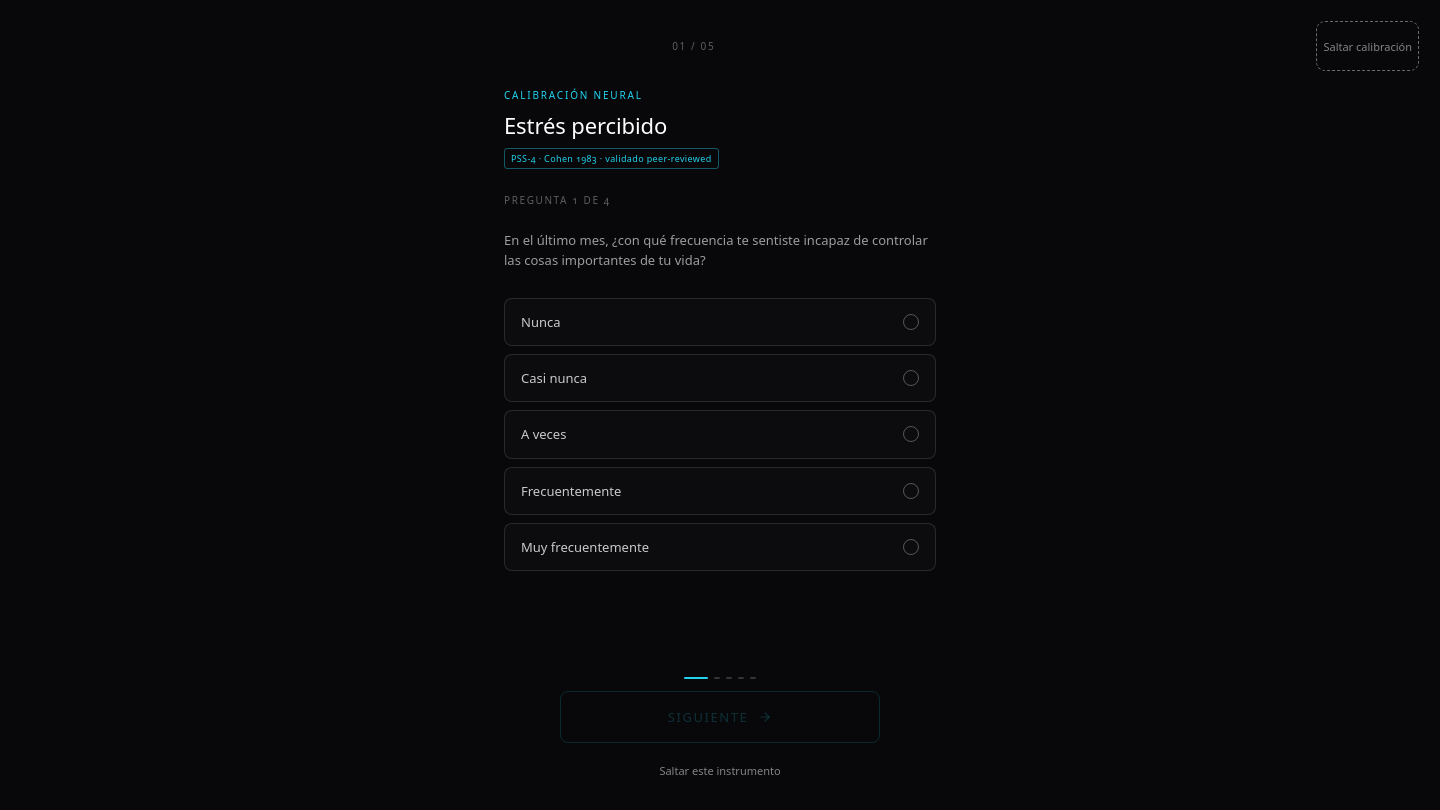
it: NeuralCalibrationV2 — instruments structure › Step 2 rMEQ tiene title 'Cronotipo' y badge 'Adan & Almirall 1991'
Click the radio button with test id "pss4-opt-0-2": [544, 434] box [504,410,936,459]
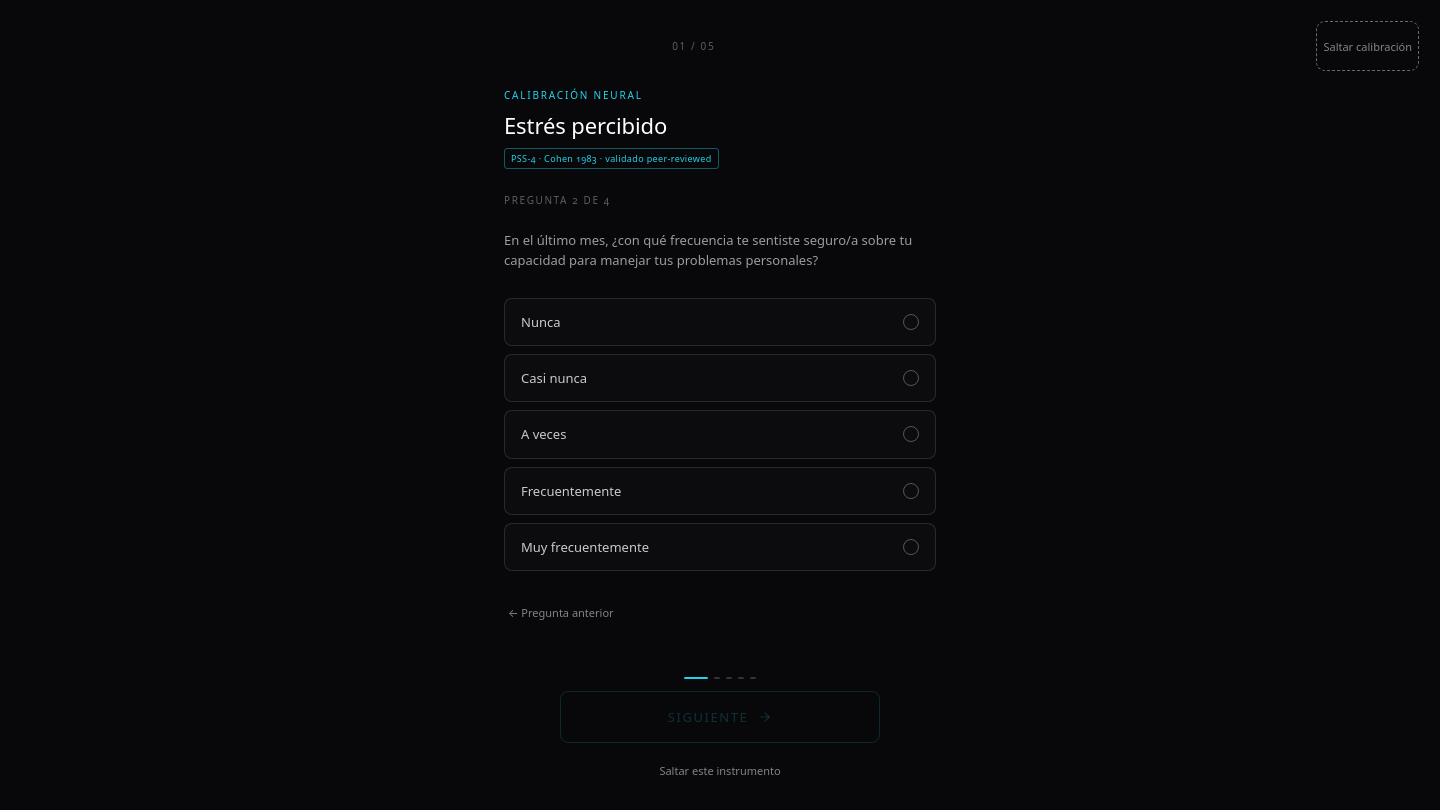
Click the radio button labelled "A veces": [544, 434] box [504,410,936,459]
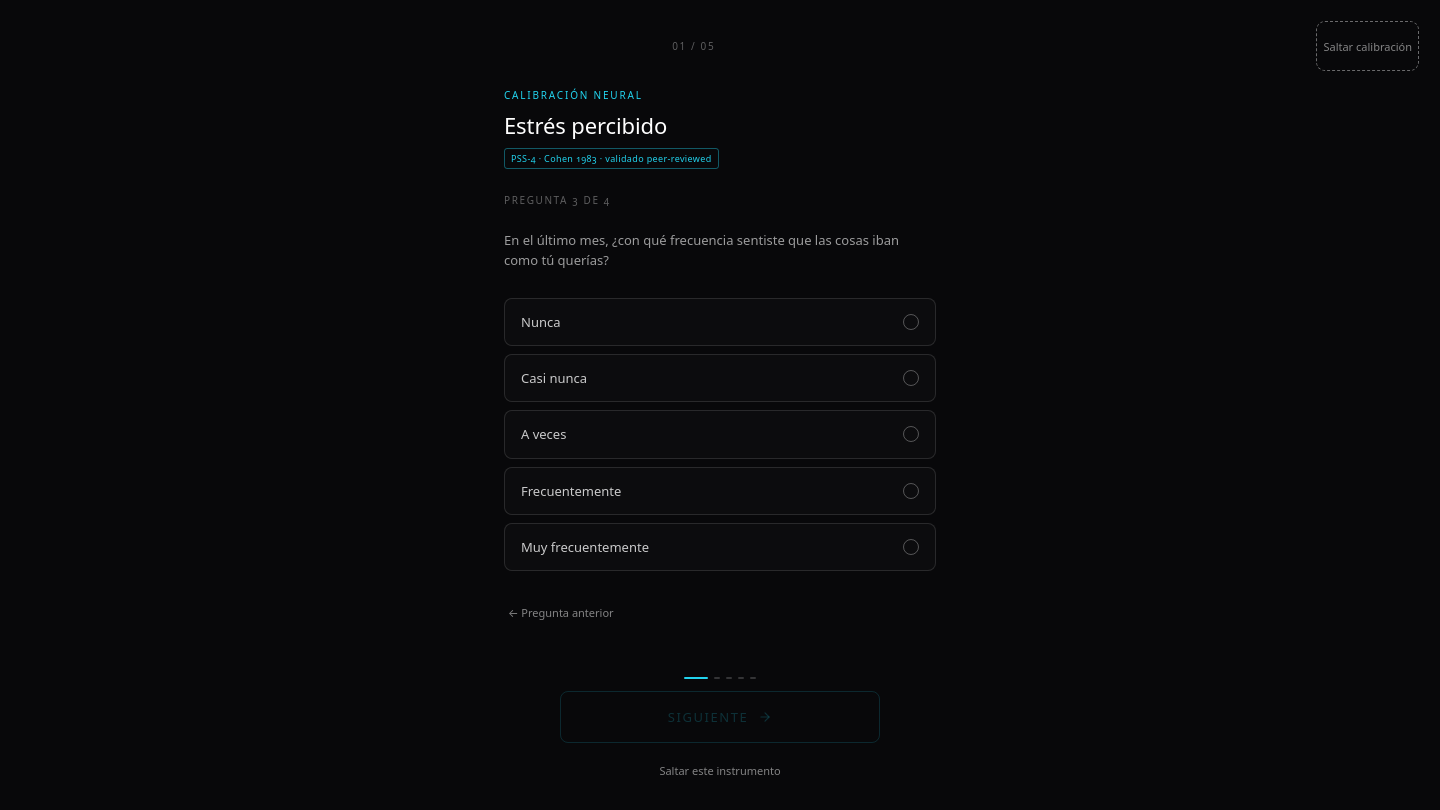
Click the radio button labelled "A veces": [544, 434] box [504,410,936,459]
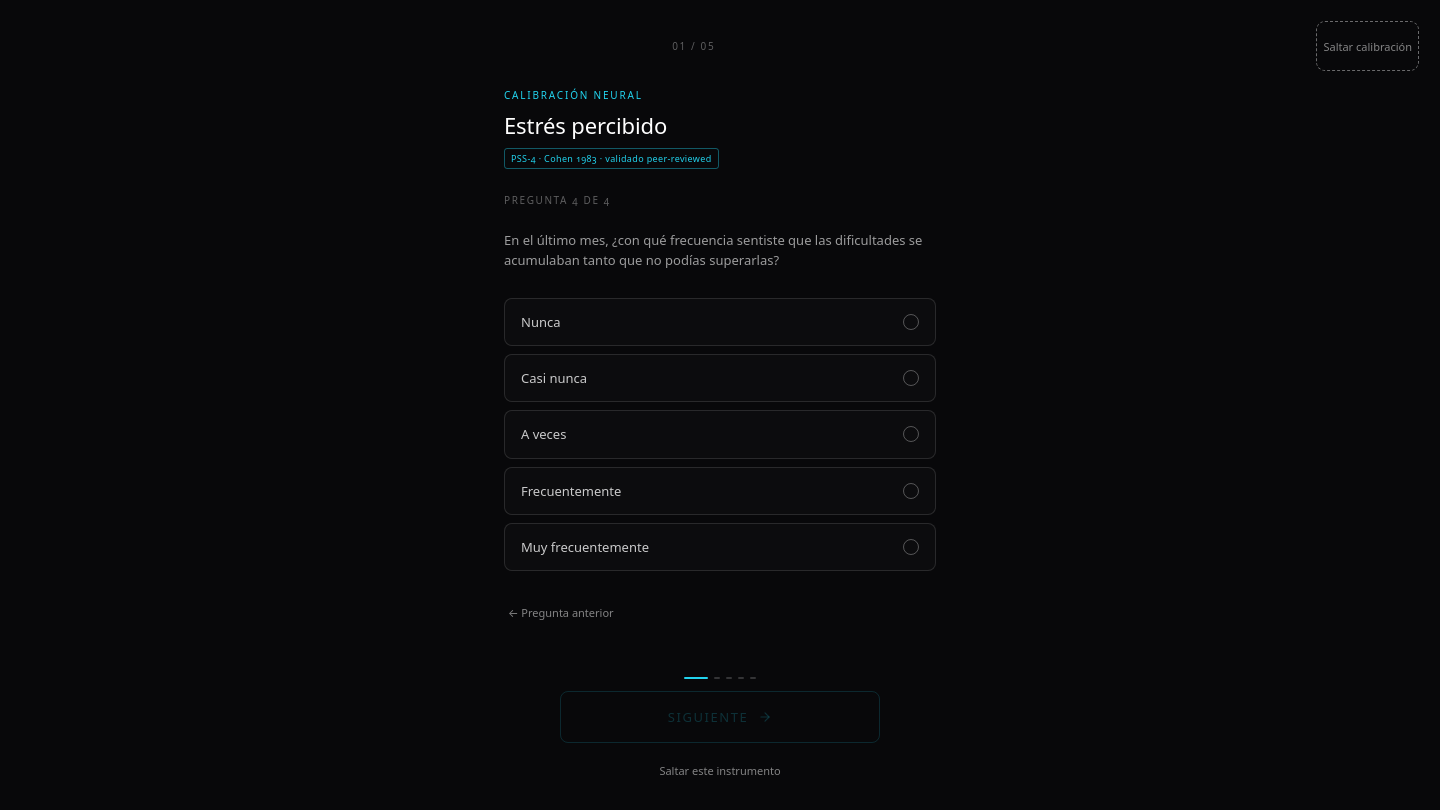
Click the radio button labelled "A veces": [544, 434] box [504,410,936,459]
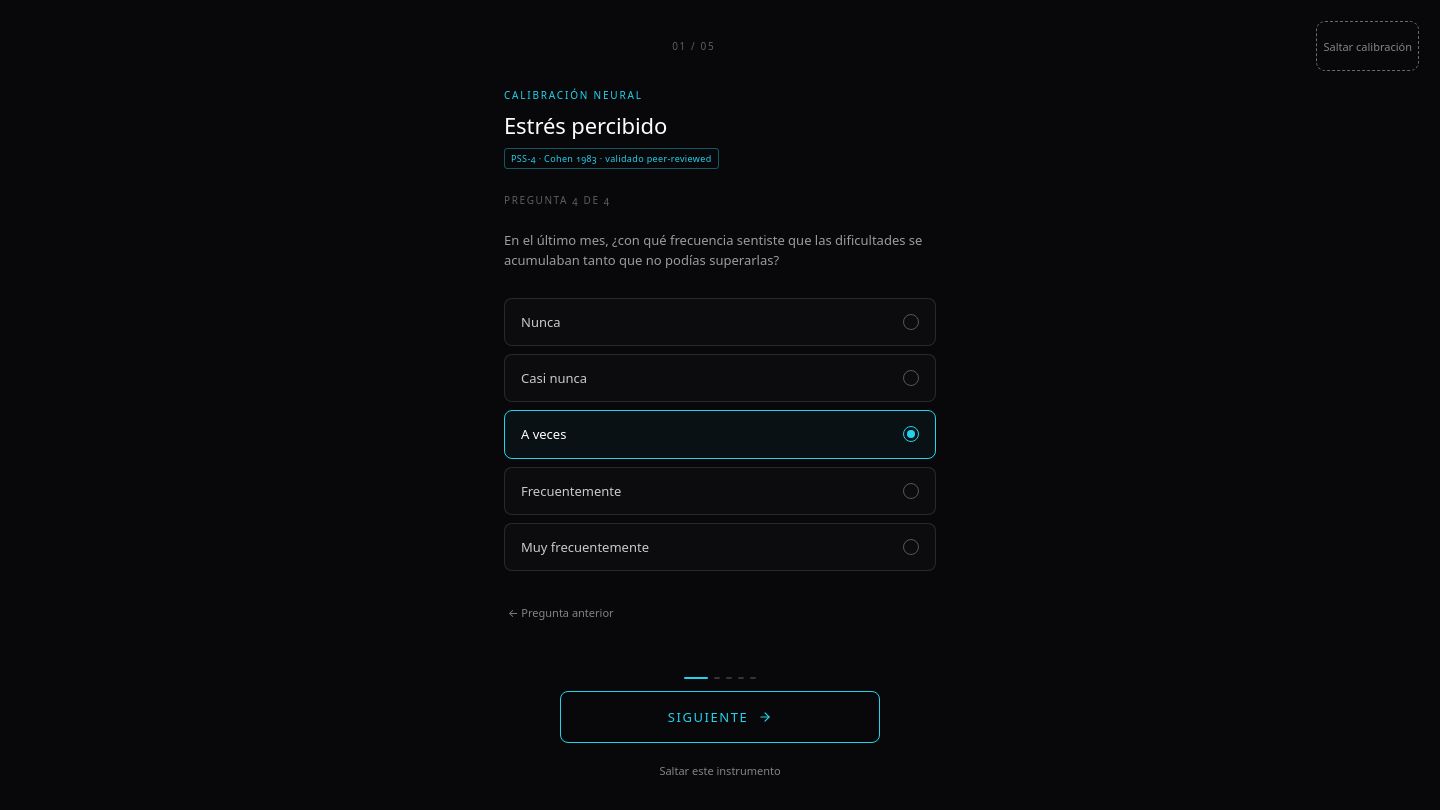
Click the button with test id "calibration-cta": [720, 717] box [560,691,880,743]
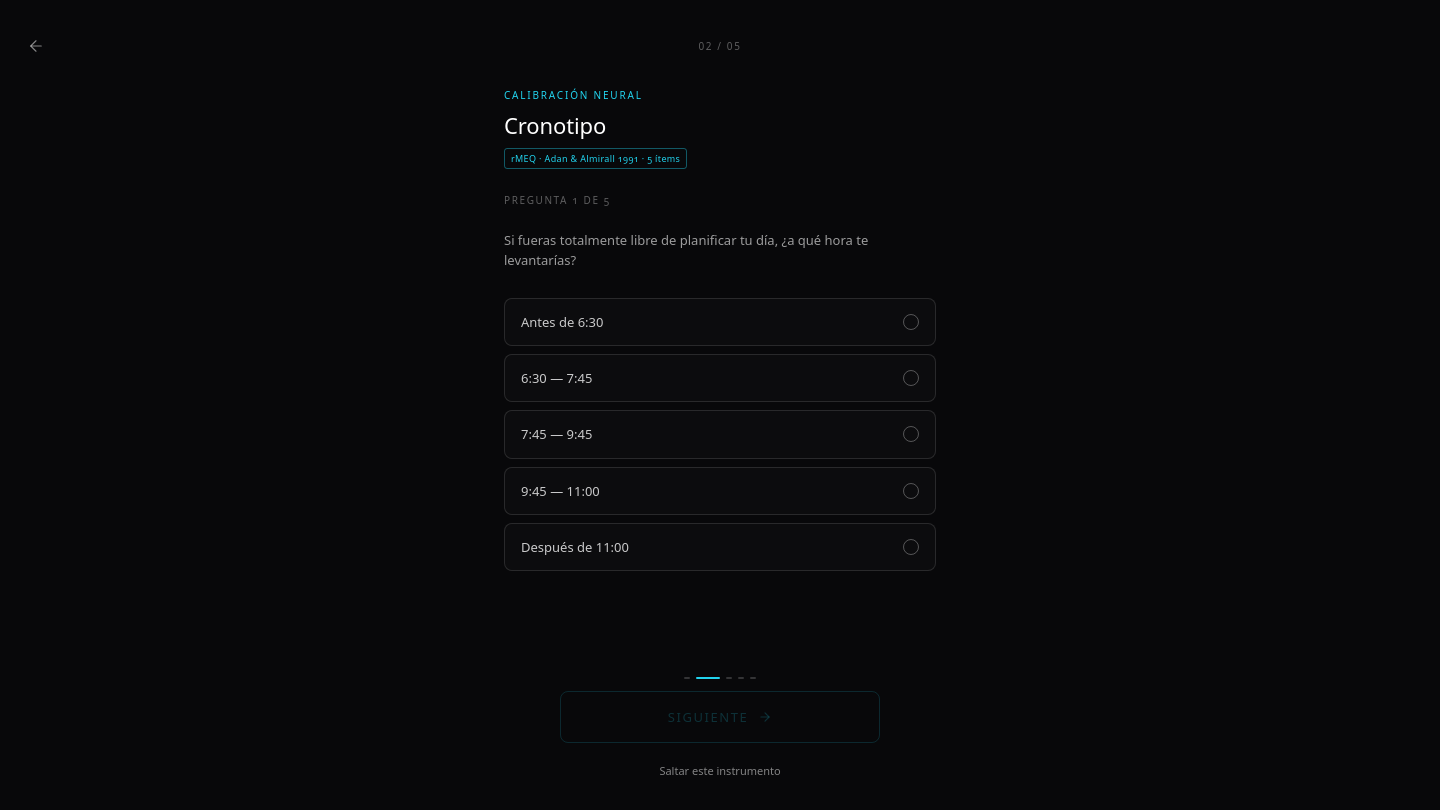
Check: the heading "Cronotipo" is shown, box [504,110,606,140]
Check: the text "rMEQ · Adan & Almirall 1991 · 5 ítems" is shown, box [504,148,687,169]
